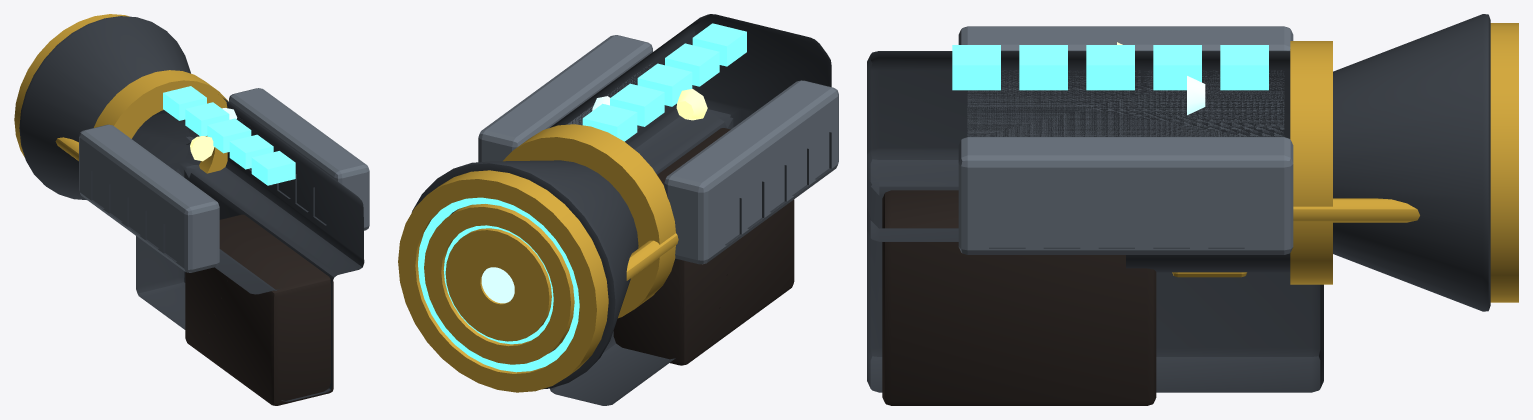
The model's file is GravityGauntlet_R.fbx.
The picture shows the model from 3 angles, left to right: view 1: azimuth 30°, elevation 25°; view 2: azimuth 150°, elevation 25°; view 3: azimuth 270°, elevation 25°; orthographic projection. The views are drawn at different scales.
Visible parts, largest first — view 1: VISUAL_原创机械重力护腕_Grip, VISUAL_原创机械重力护腕_Body, VISUAL_原创机械重力护腕_EmitterDish, VISUAL_原创机械重力护腕_SideArmor_L, VISUAL_原创机械重力护腕_SideArmor_R, VISUAL_原创机械重力护腕_EmitterFlange, VISUAL_原创机械重力护腕_EnergyCoil_00, VISUAL_原创机械重力护腕_EnergyBar_0, VISUAL_原创机械重力护腕_EnergyBar_1, VISUAL_原创机械重力护腕_EnergyBar_3, VISUAL_原创机械重力护腕_EnergyBar_4, VISUAL_原创机械重力护腕_EnergyBar_2 (+2 smaller); view 2: VISUAL_原创机械重力护腕_SideArmor_L, VISUAL_原创机械重力护腕_Body, VISUAL_原创机械重力护腕_Grip, VISUAL_原创机械重力护腕_EnergyCoil_00, VISUAL_原创机械重力护腕_EmitterFlange, VISUAL_原创机械重力护腕_EmitterDish, VISUAL_原创机械重力护腕_EnergyCoil_01, VISUAL_原创机械重力护腕_SideArmor_R, VISUAL_原创机械重力护腕_EnergyCoil_02, VISUAL_原创机械重力护腕_GlowRing_0, VISUAL_原创机械重力护腕_EnergyCoil_03, VISUAL_原创机械重力护腕_EnergyBar_1 (+8 smaller); view 3: VISUAL_原创机械重力护腕_Body, VISUAL_原创机械重力护腕_Grip, VISUAL_原创机械重力护腕_SideArmor_R, VISUAL_原创机械重力护腕_EmitterDish, VISUAL_原创机械重力护腕_SideArmor_L, VISUAL_原创机械重力护腕_EmitterFlange, VISUAL_原创机械重力护腕_EnergyCoil_00, VISUAL_原创机械重力护腕_TriggerGuard, VISUAL_原创机械重力护腕_Pipe_R, VISUAL_原创机械重力护腕_EnergyBar_0, VISUAL_原创机械重力护腕_EnergyBar_1, VISUAL_原创机械重力护腕_EnergyBar_2 (+3 smaller).
Part boxes in pixels (x1,y1,x2,y2): VISUAL_原创机械重力护腕_Grip: [185, 214, 333, 405]; VISUAL_原创机械重力护腕_Body: [132, 97, 364, 401]; VISUAL_原创机械重力护腕_EmitterDish: [19, 16, 200, 199]; VISUAL_原创机械重力护腕_SideArmor_L: [79, 124, 219, 272]; VISUAL_原创机械重力护腕_SideArmor_R: [229, 88, 369, 230]; VISUAL_原创机械重力护腕_EmitterFlange: [94, 70, 228, 173]; VISUAL_原创机械重力护腕_EnergyCoil_00: [14, 14, 129, 157]; VISUAL_原创机械重力护腕_EnergyBar_0: [251, 151, 295, 185]; VISUAL_原创机械重力护腕_EnergyBar_1: [229, 134, 273, 169]; VISUAL_原创机械重力护腕_EnergyBar_3: [185, 102, 229, 136]; VISUAL_原创机械重力护腕_EnergyBar_4: [163, 86, 206, 120]; VISUAL_原创机械重力护腕_EnergyBar_2: [207, 118, 251, 153]; VISUAL_原创机械重力护腕_SideArmor_L: [664, 80, 838, 264]; VISUAL_原创机械重力护腕_Body: [550, 14, 831, 405]; VISUAL_原创机械重力护腕_Grip: [613, 128, 794, 365]; VISUAL_原创机械重力护腕_EnergyCoil_00: [398, 170, 608, 392]; VISUAL_原创机械重力护腕_EmitterFlange: [503, 124, 675, 318]; VISUAL_原创机械重力护腕_EmitterDish: [411, 160, 638, 389]; VISUAL_原创机械重力护腕_EnergyCoil_01: [424, 204, 574, 364]; VISUAL_原创机械重力护腕_SideArmor_R: [478, 35, 652, 162]; VISUAL_原创机械重力护腕_EnergyCoil_02: [445, 228, 551, 341]; VISUAL_原创机械重力护腕_GlowRing_0: [418, 197, 579, 372]; VISUAL_原创机械重力护腕_EnergyCoil_03: [463, 248, 531, 322]; VISUAL_原创机械重力护腕_EnergyBar_1: [665, 43, 719, 86]; VISUAL_原创机械重力护腕_Body: [867, 51, 1323, 392]; VISUAL_原创机械重力护腕_Grip: [882, 190, 1156, 405]; VISUAL_原创机械重力护腕_SideArmor_R: [958, 137, 1293, 254]; VISUAL_原创机械重力护腕_EmitterDish: [1333, 14, 1490, 311]; VISUAL_原创机械重力护腕_SideArmor_L: [958, 26, 1293, 136]; VISUAL_原创机械重力护腕_EmitterFlange: [1290, 41, 1332, 284]; VISUAL_原创机械重力护腕_EnergyCoil_00: [1490, 23, 1518, 302]; VISUAL_原创机械重力护腕_TriggerGuard: [1126, 253, 1290, 272]; VISUAL_原创机械重力护腕_Pipe_R: [1293, 198, 1419, 222]; VISUAL_原创机械重力护腕_EnergyBar_0: [952, 45, 1000, 90]; VISUAL_原创机械重力护腕_EnergyBar_1: [1019, 45, 1067, 90]; VISUAL_原创机械重力护腕_EnergyBar_2: [1086, 45, 1134, 90].
Size of the model in its own units: 10.8 by 12.99 by 21.4.
